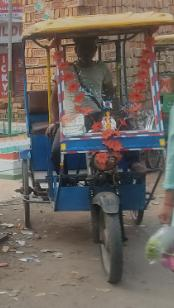Auto: (15, 10, 160, 289)
